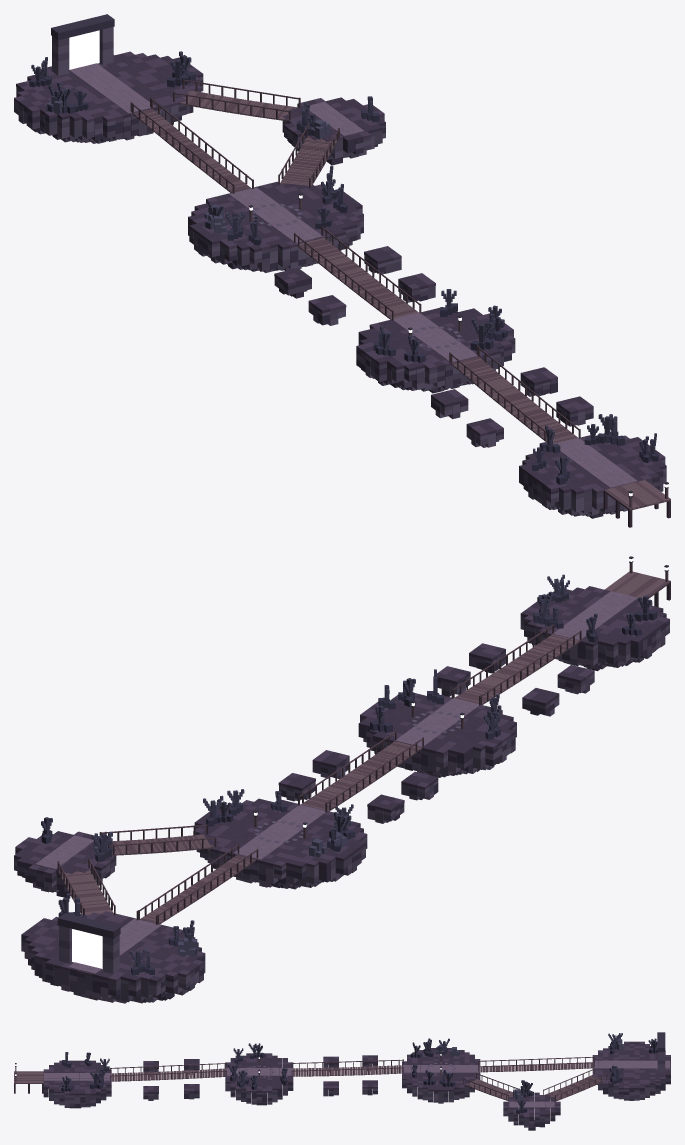
The model's file is sky_route_polluted.glb.
The picture shows the model from 3 angles, top to bottom: view 1: azimuth 30°, elevation 25°; view 2: azimuth 150°, elevation 25°; view 3: azimuth 270°, elevation 25°; orthographic projection. The views are drawn at different scales.
Parts seen in each view (by area): view 1: sky_route_blocks; view 2: sky_route_blocks; view 3: sky_route_blocks.
Boxes of the visible parts, <box> form: sky_route_blocks: <box>14,14,670,527</box>; sky_route_blocks: <box>14,556,670,1003</box>; sky_route_blocks: <box>14,1032,670,1130</box>.
Bounding box in the file's own units: 38.39 × 16.2 × 145.
